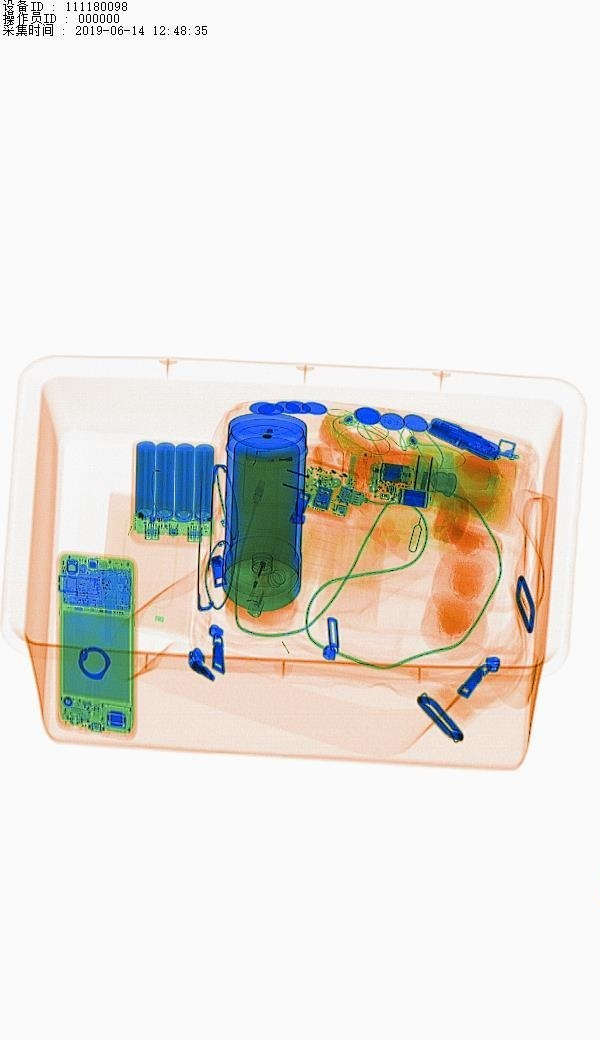NonmetallicFire: (238, 437, 343, 478), (238, 542, 284, 635)
